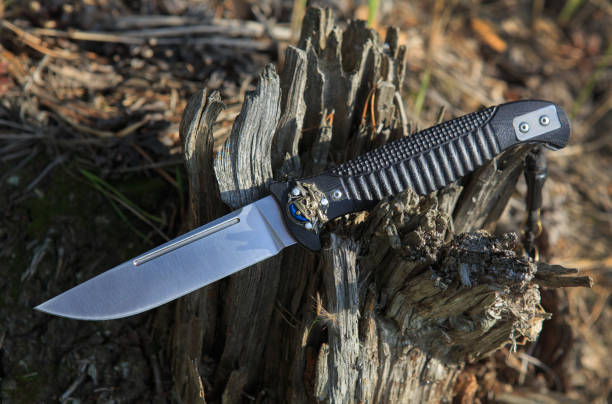knife: (31, 96, 573, 323)
